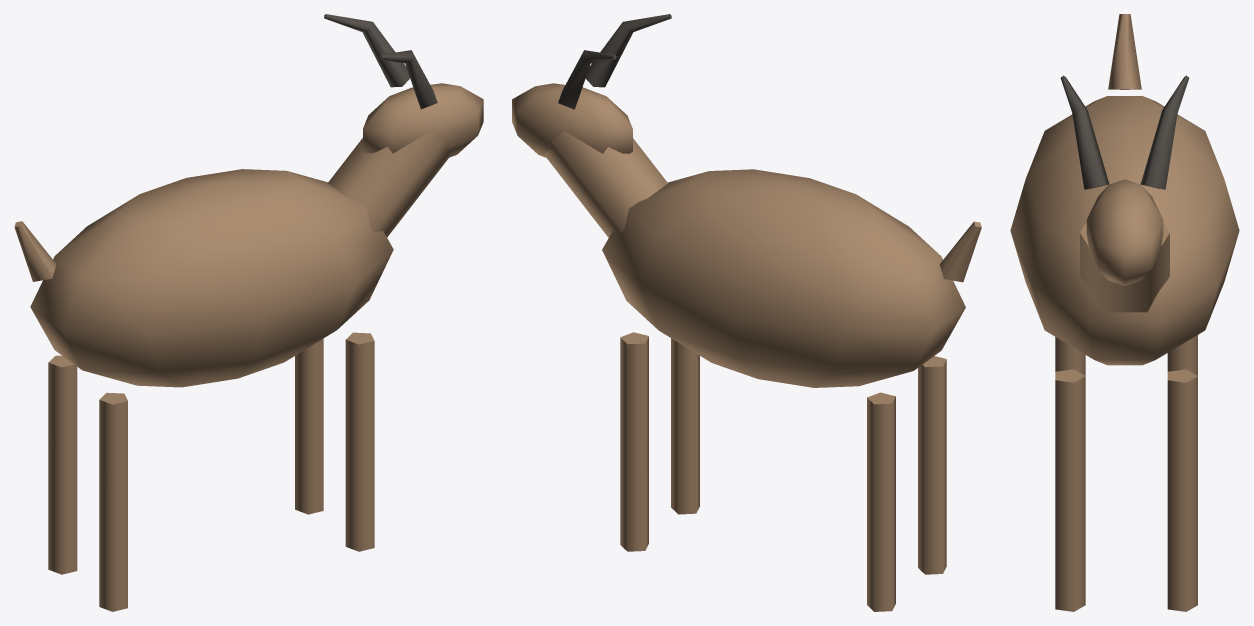
Rendered from SM_Goat_Brown.fbx.
The picture shows the model from 3 angles, left to right: view 1: azimuth 30°, elevation 25°; view 2: azimuth 150°, elevation 25°; view 3: azimuth 270°, elevation 25°; orthographic projection. The views are drawn at different scales.
Visible parts, largest first — view 1: SM_Goat_Brown; view 2: SM_Goat_Brown; view 3: SM_Goat_Brown.
Boxes of the visible parts, x1,y1,x2,y2 form: SM_Goat_Brown: [14, 14, 483, 611]; SM_Goat_Brown: [512, 14, 981, 611]; SM_Goat_Brown: [1010, 14, 1239, 611].
Bounding box in the file's own units: 107 × 106 × 40.8.
